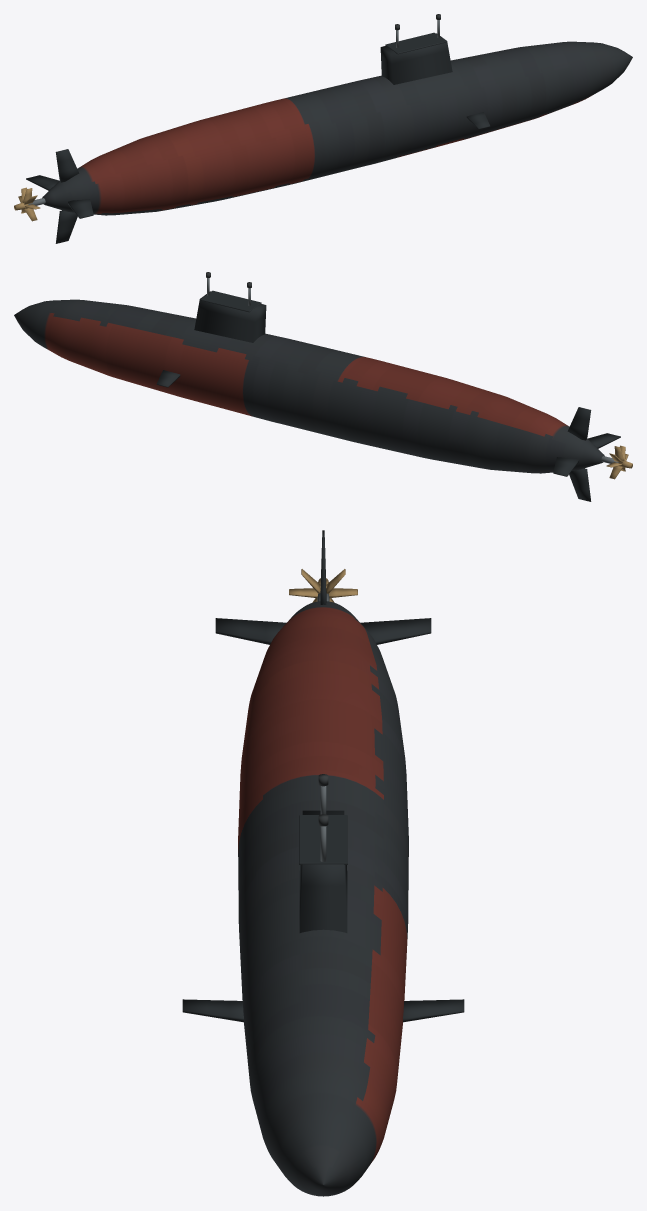
File: US_SSN_Skipjack.glb
3 renders of one model, top to bottom at view 1: azimuth 30°, elevation 25°; view 2: azimuth 150°, elevation 25°; view 3: azimuth 270°, elevation 25°, orthographic. The views are drawn at different scales.
Visible parts, largest first — view 1: US_SSN_Skipjack_LOD0; view 2: US_SSN_Skipjack_LOD0; view 3: US_SSN_Skipjack_LOD0.
Boxes of the visible parts, x1,y1,x2,y2 form: US_SSN_Skipjack_LOD0: [14, 14, 632, 243]; US_SSN_Skipjack_LOD0: [14, 272, 632, 501]; US_SSN_Skipjack_LOD0: [182, 530, 464, 1196].
Size of the model in its own units: 80.46 by 16.84 by 15.9.
Materials: 6 (1 with a texture image).
